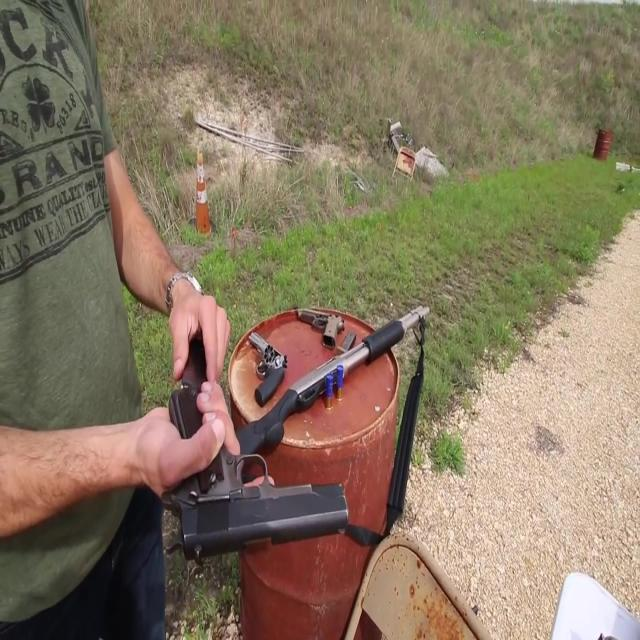Weapon: (132, 227, 482, 592)
